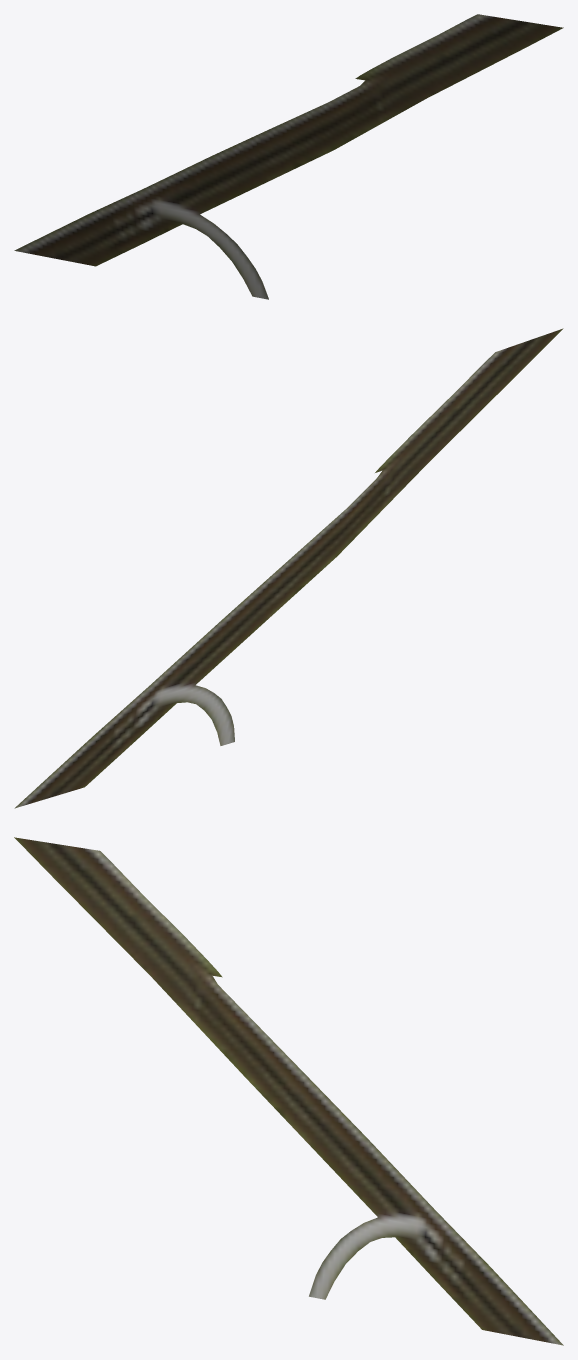
Rendered from Tower2 panoramic image Rails.fbx.
3 renders of one model, top to bottom at view 1: azimuth 90°, elevation 25°; view 2: azimuth 150°, elevation 25°; view 3: azimuth 270°, elevation 25°, orthographic. The views are drawn at different scales.
Visible parts, largest first — view 1: polymsh; view 2: polymsh; view 3: polymsh.
Part boxes in pixels (<box>): polymsh: <box>14,14,563,299</box>; polymsh: <box>14,328,563,808</box>; polymsh: <box>14,837,563,1345</box>.
Size of the model in its own units: 10.17 by 12.16 by 16.58.
1 material, 1 textured.
